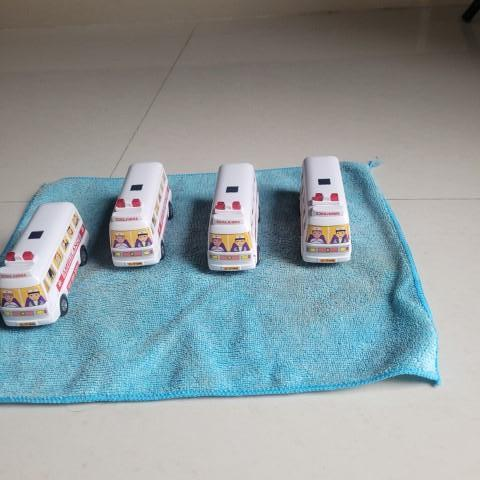ambulance: (1, 200, 92, 332), (105, 160, 179, 270), (202, 159, 263, 274), (294, 154, 355, 267)
